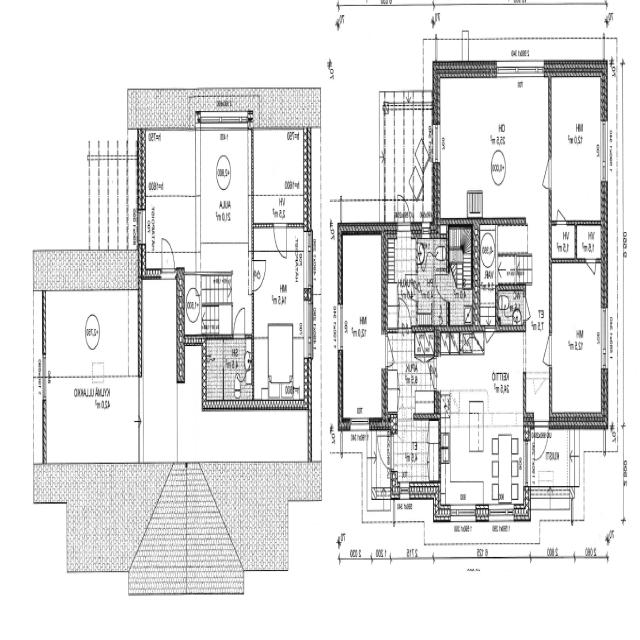door: (377, 436, 398, 470), (534, 412, 548, 462), (420, 356, 440, 389), (161, 235, 175, 279), (382, 337, 401, 367), (398, 192, 410, 239), (536, 335, 552, 365), (251, 260, 266, 291), (537, 158, 552, 188), (399, 296, 411, 332), (274, 223, 286, 259), (436, 275, 450, 301), (233, 307, 244, 339), (405, 274, 418, 301), (586, 258, 596, 287), (557, 197, 567, 226), (524, 297, 536, 320), (485, 327, 495, 354)
